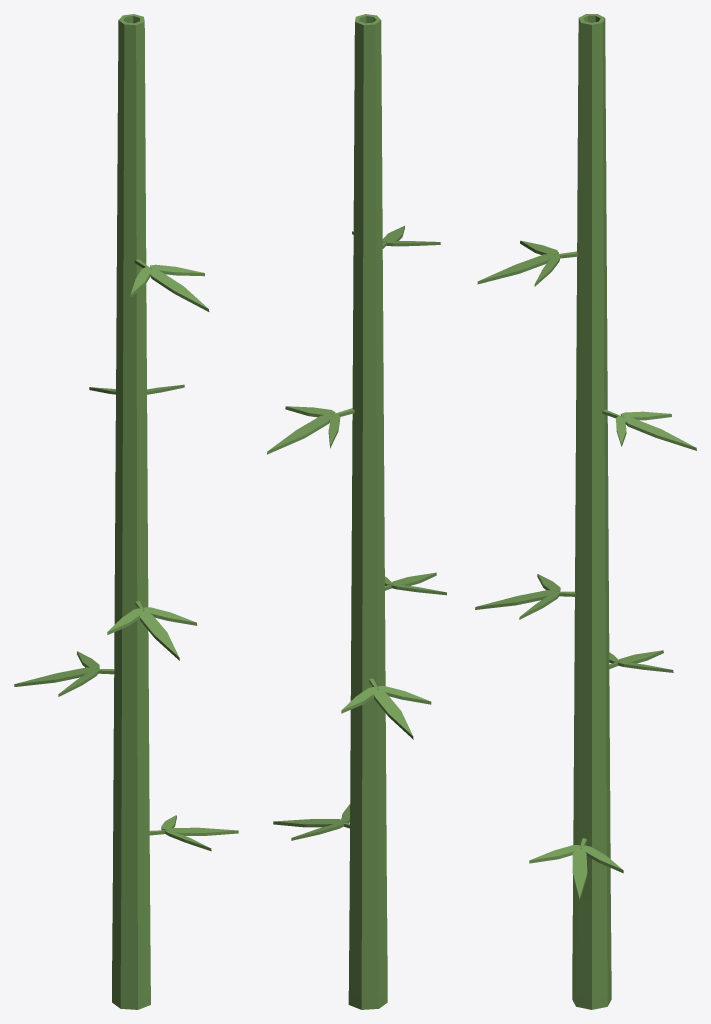
The model's file is Bamboo_4.glb.
3 views of the same model, side by side, from view 1: azimuth 30°, elevation 25°; view 2: azimuth 150°, elevation 25°; view 3: azimuth 270°, elevation 25° (orthographic).
Parts seen in each view (by area): view 1: Bamboo_4_Cylinder.016; view 2: Bamboo_4_Cylinder.016; view 3: Bamboo_4_Cylinder.016.
Boxes of the visible parts, x1,y1,x2,y2 form: Bamboo_4_Cylinder.016: [14, 14, 238, 1009]; Bamboo_4_Cylinder.016: [267, 14, 446, 1009]; Bamboo_4_Cylinder.016: [475, 14, 696, 1009].
Size of the model in its own units: 0.5299 by 2.73 by 0.5582.
